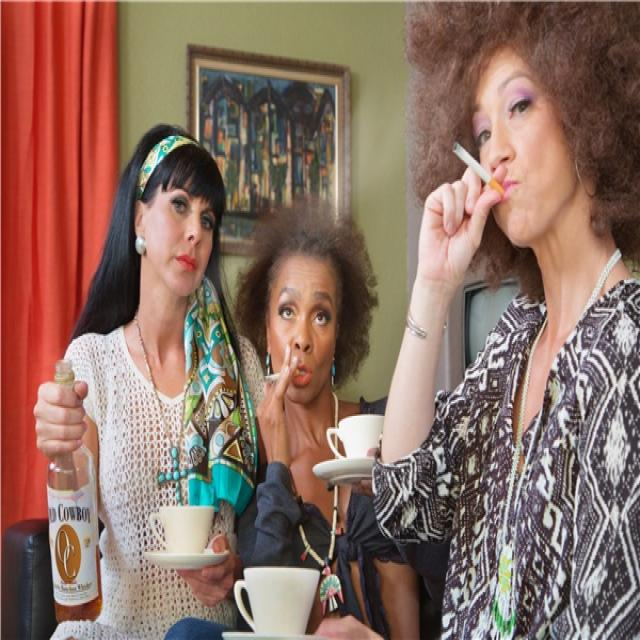smoking: (452, 142, 503, 199), (264, 370, 303, 382)
